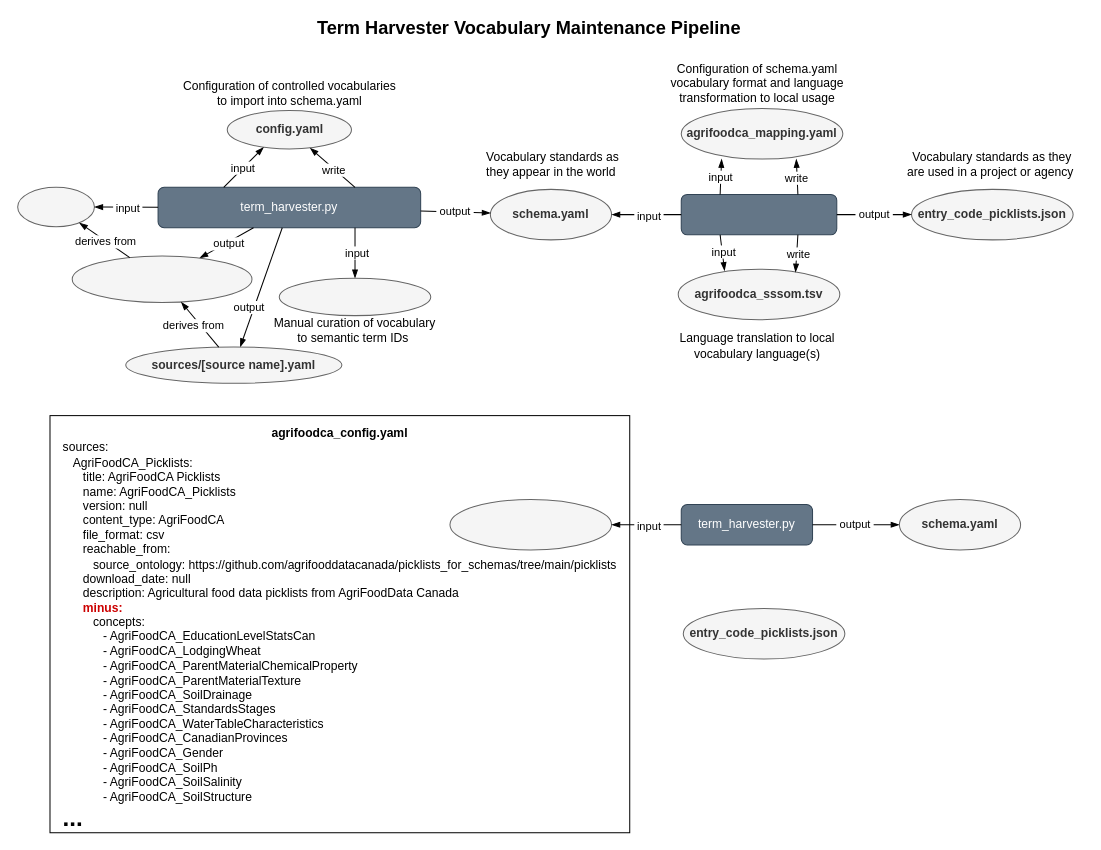
Some shapes in this 1101 by 850 pixel diagram are drawn without their labels. Here are the shapes that lost their labels. From the top down, the centre of each, then its label:
the point at 55,206: external resource
the point at 758,214: agrifoodca_postharvest.py
the point at 161,278: resource in sources/[source name].zip
the point at 354,296: harvester_sssom.tsv
the point at 530,524: agrifoodca_config.yaml
